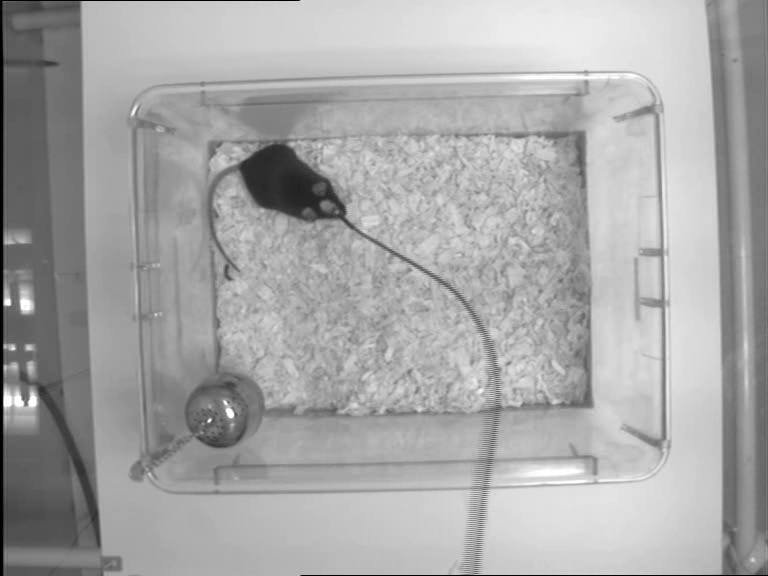mice: (205, 139, 345, 273)
